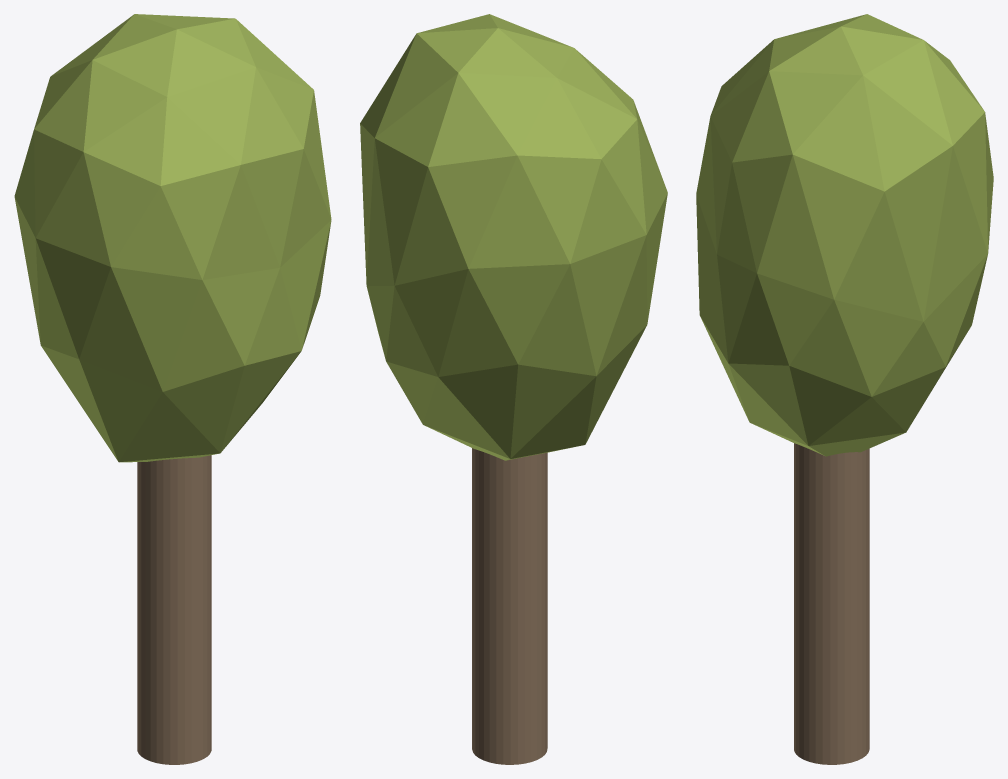
Rendered from Tree.fbx.
3 renders of one model, left to right at view 1: azimuth 30°, elevation 25°; view 2: azimuth 150°, elevation 25°; view 3: azimuth 270°, elevation 25°, orthographic.
Visible parts, largest first — view 1: Tree; view 2: Tree; view 3: Tree.
Part boxes in pixels (x1,y1,x2,y2): Tree: (14,14,331,764); Tree: (360,14,667,764); Tree: (696,14,993,764).
Bounding box in the file's own units: 36.17 × 89.67 × 33.31.
